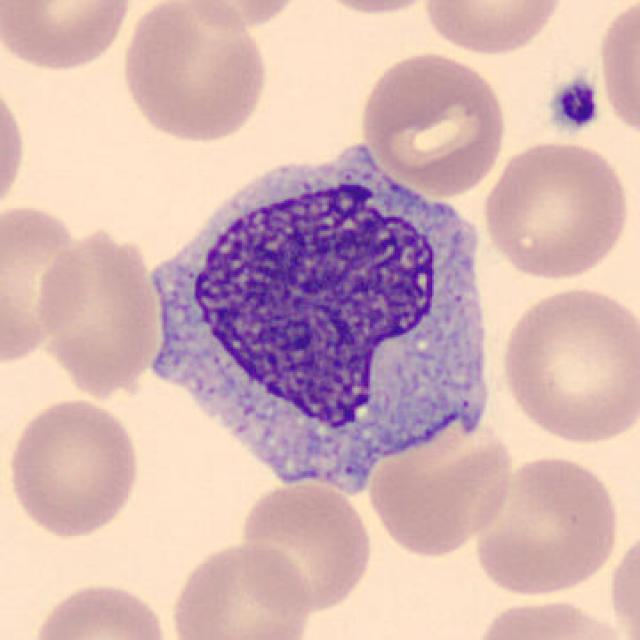Monocyte: (130, 132, 510, 504)
Platelets: (544, 74, 603, 136)
RBC: (494, 282, 638, 448), (31, 220, 166, 397), (363, 410, 517, 560), (356, 48, 510, 198), (478, 136, 633, 284), (468, 451, 624, 598), (117, 0, 271, 146), (4, 393, 144, 541), (235, 478, 377, 615), (0, 197, 96, 365), (167, 537, 314, 640), (0, 0, 137, 74), (26, 578, 172, 640), (420, 0, 567, 58), (469, 594, 631, 640), (594, 0, 638, 143), (175, 0, 309, 35), (0, 72, 30, 222), (606, 523, 640, 640), (302, 0, 452, 18)
